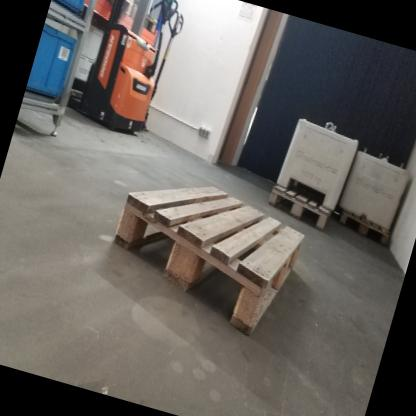BoxFace: (109, 181, 309, 344)
